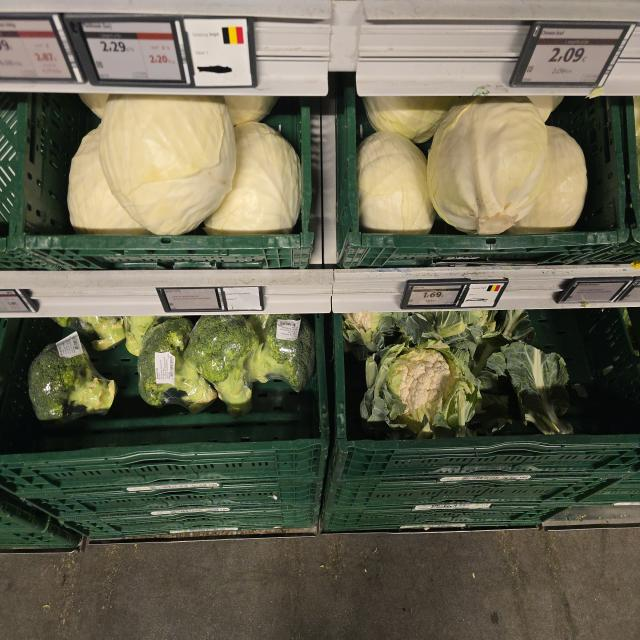Broccoli: (184, 315, 264, 418), (28, 331, 116, 421), (138, 317, 218, 414), (246, 314, 315, 391)
Cauliflower: (360, 333, 480, 439)
